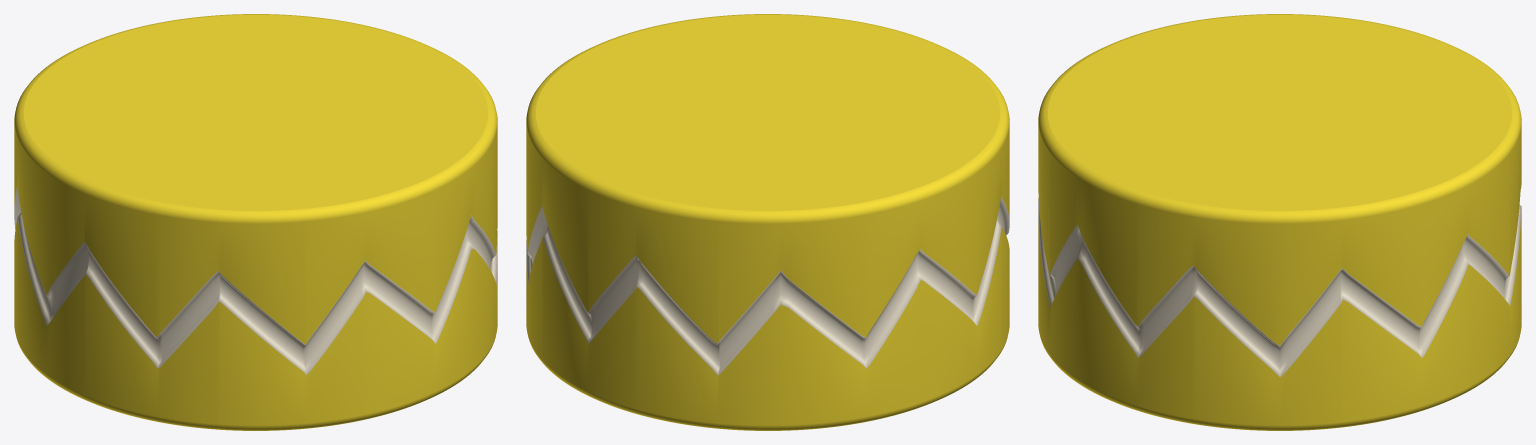
File: tsumiki_yellow_stripe.fbx
The picture shows the model from 3 angles, left to right: view 1: azimuth 30°, elevation 25°; view 2: azimuth 150°, elevation 25°; view 3: azimuth 270°, elevation 25°; orthographic projection.
Parts seen in each view (by area): view 1: Tumiki_Yellow; view 2: Tumiki_Yellow; view 3: Tumiki_Yellow.
Part boxes in pixels (x1=…): Tumiki_Yellow: x1=14, y1=14, x2=497, y2=430; Tumiki_Yellow: x1=526, y1=14, x2=1009, y2=430; Tumiki_Yellow: x1=1038, y1=14, x2=1521, y2=430.
Size of the model in its own units: 100 by 50 by 100.
